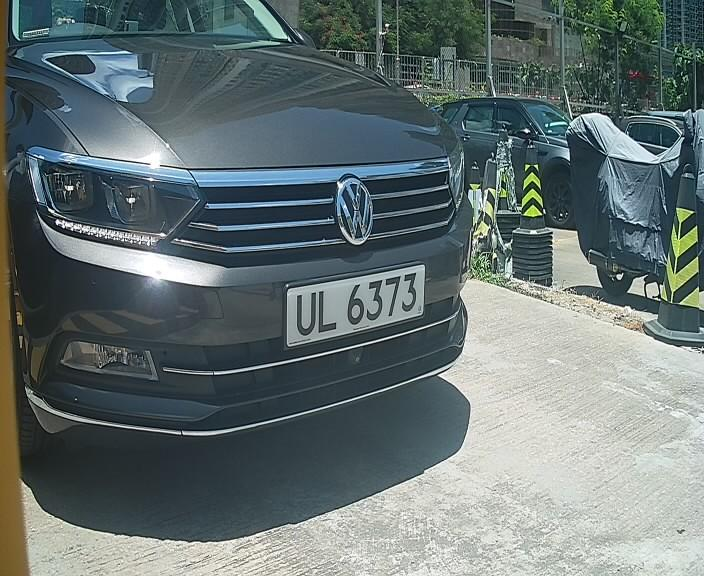License Plate: (277, 260, 428, 348)
